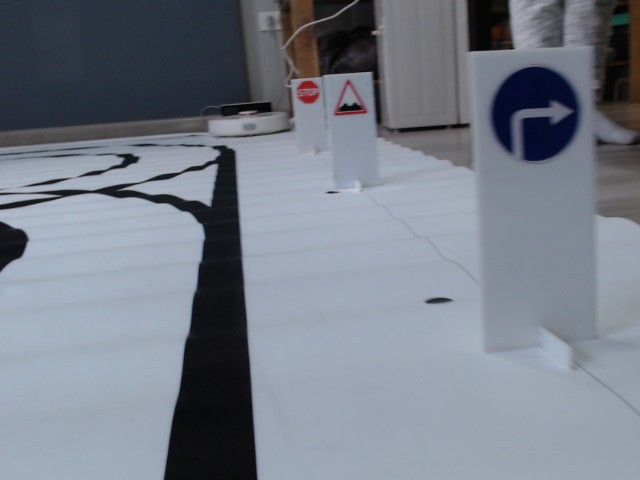Nerov: (333, 78, 367, 116)
Right: (487, 63, 583, 165)
Stop: (296, 80, 320, 105)
